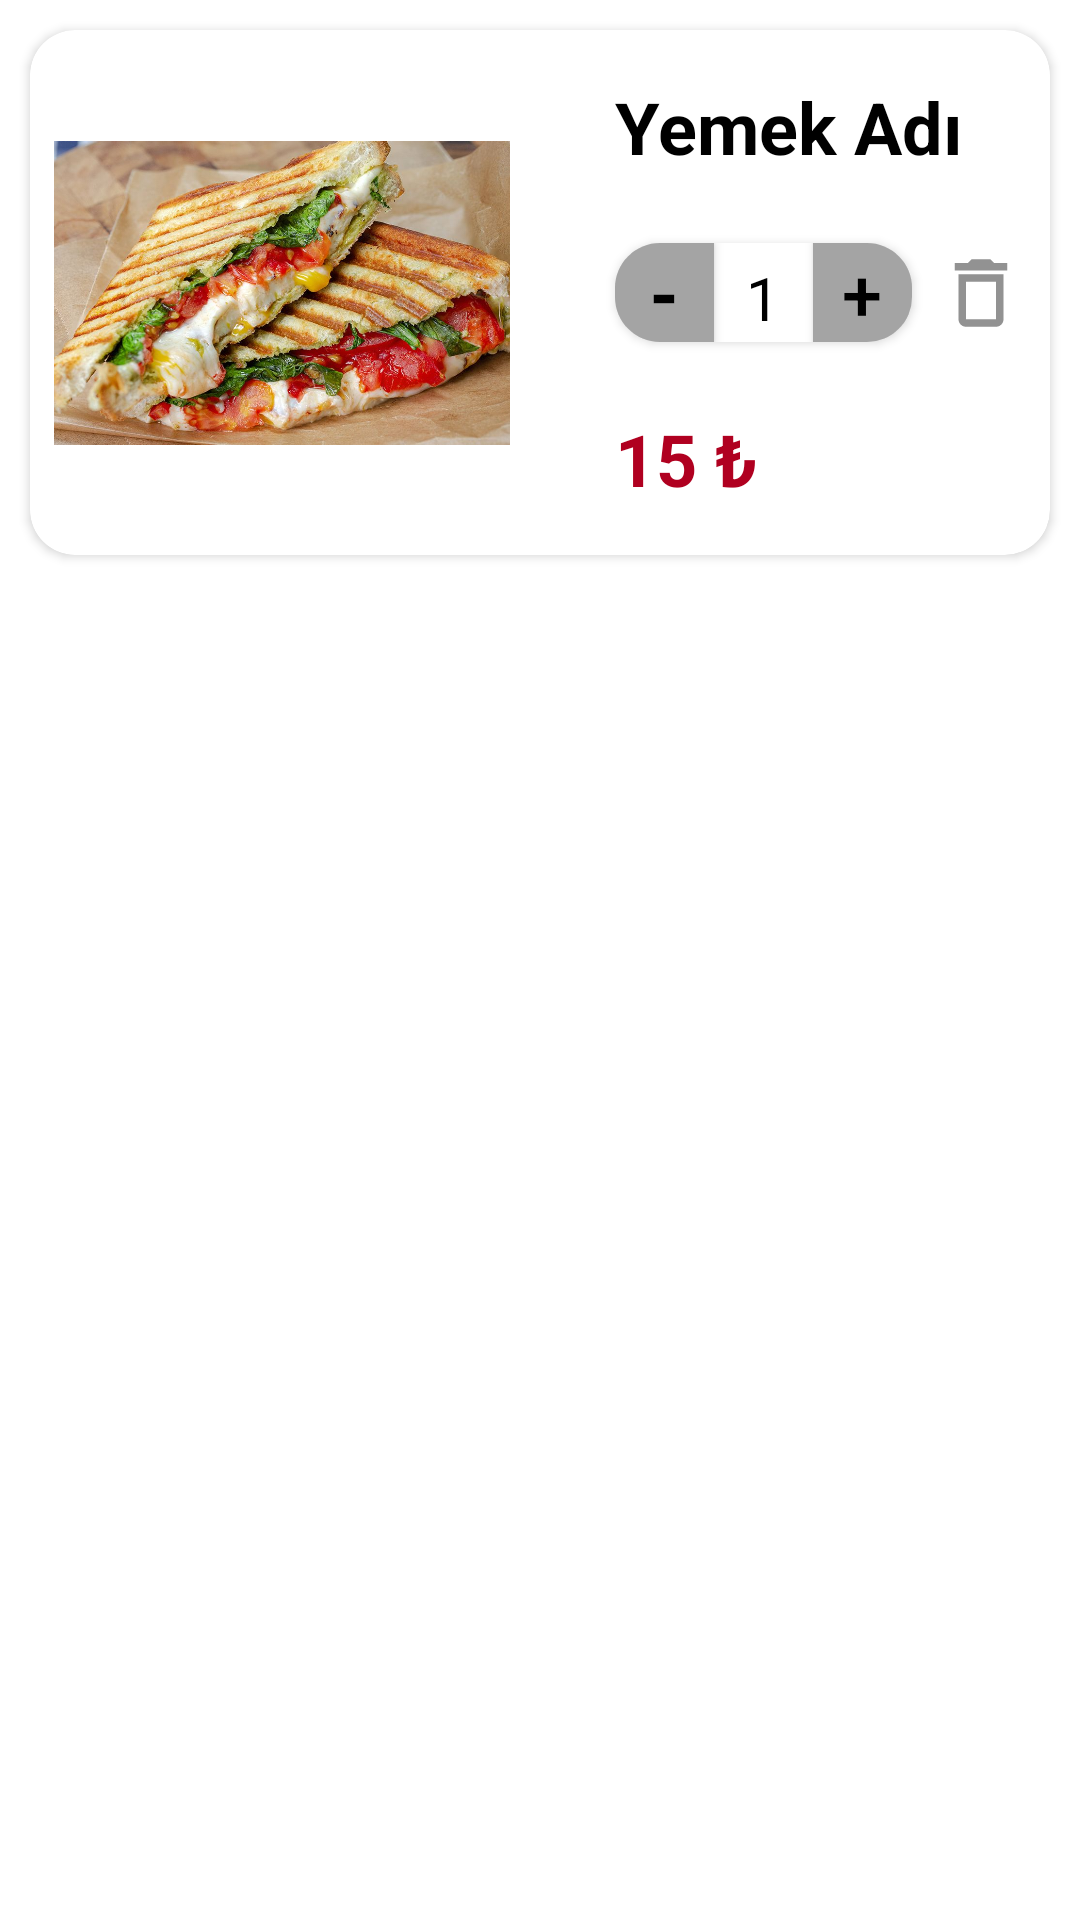

Icon bounding boxes for this 1080×1920 phone screenshot, format (x1, y1, x2, y2):
sil resim: (954, 259, 1008, 327)
